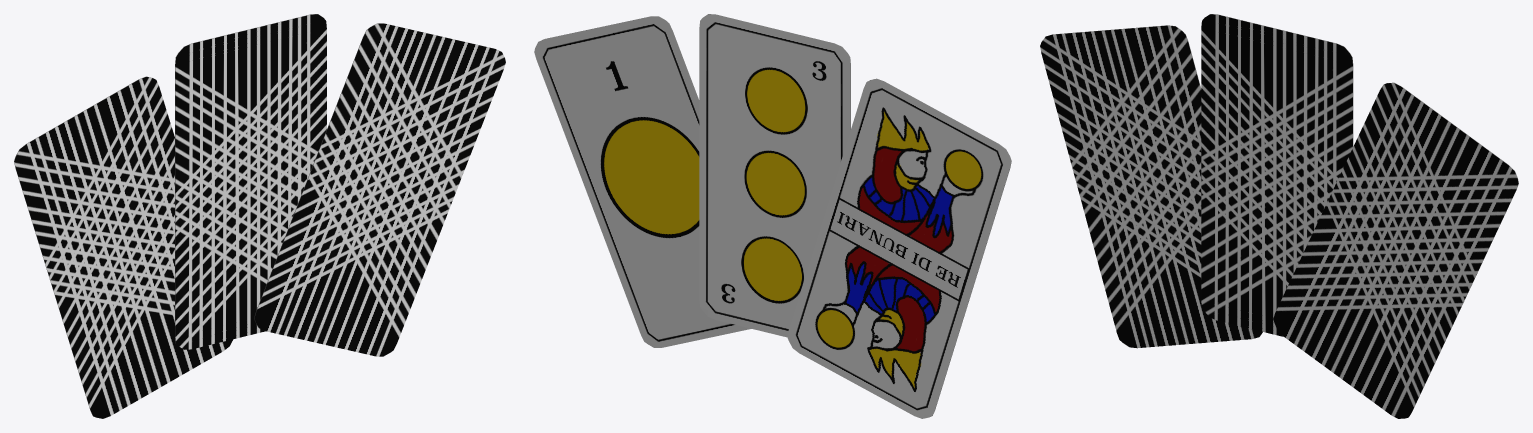
Rendered from briskula.fbx.
3 views of the same model, side by side, from view 1: azimuth 30°, elevation 25°; view 2: azimuth 150°, elevation 25°; view 3: azimuth 330°, elevation 25° (orthographic).
Parts seen in each view (by area): view 1: Briskula; view 2: Briskula; view 3: Briskula.
Part boxes in pixels (bbox=[...]): Briskula: bbox=[14, 14, 505, 418]; Briskula: bbox=[534, 14, 1011, 418]; Briskula: bbox=[1040, 14, 1518, 418].
Size of the model in its own units: 1055 by 737 by 34.07.
